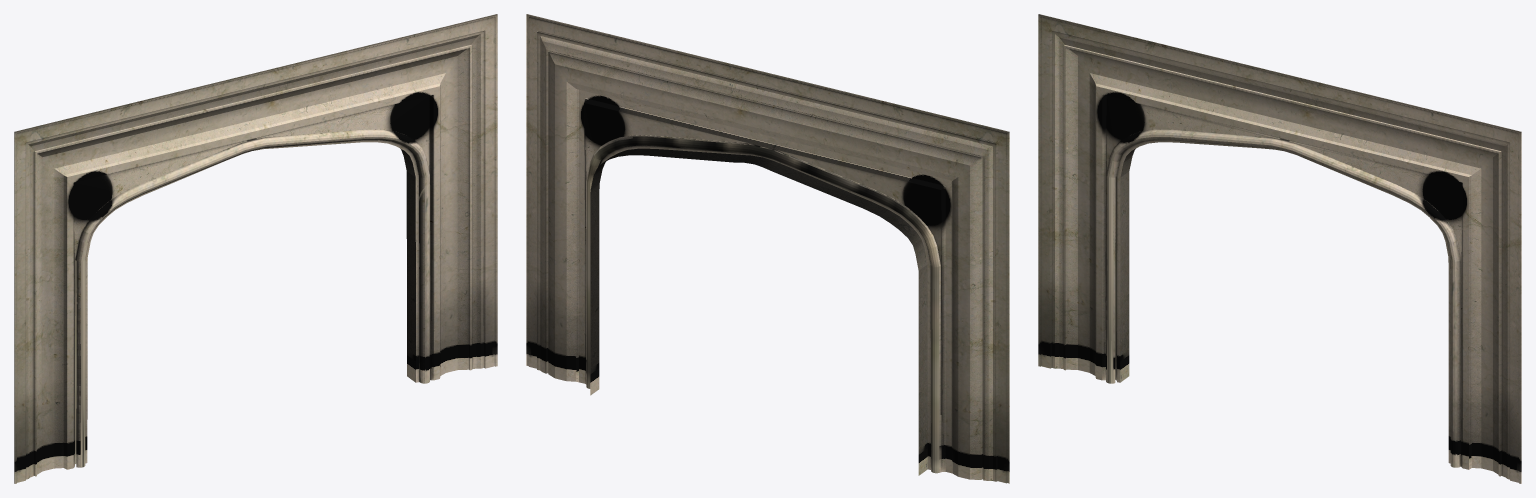
Rendered from Template.005.obj.
3 views of the same model, side by side, from view 1: azimuth 30°, elevation 25°; view 2: azimuth 150°, elevation 25°; view 3: azimuth 330°, elevation 25° (orthographic).
Parts seen in each view (by area): view 1: Template.005; view 2: Template.005; view 3: Template.005.
Boxes of the visible parts, x1,y1,x2,y2 form: Template.005: (14,14,497,483); Template.005: (526,14,1009,483); Template.005: (1038,14,1521,483).
Size of the model in its own units: 1.6 by 1.12 by 0.0809.
